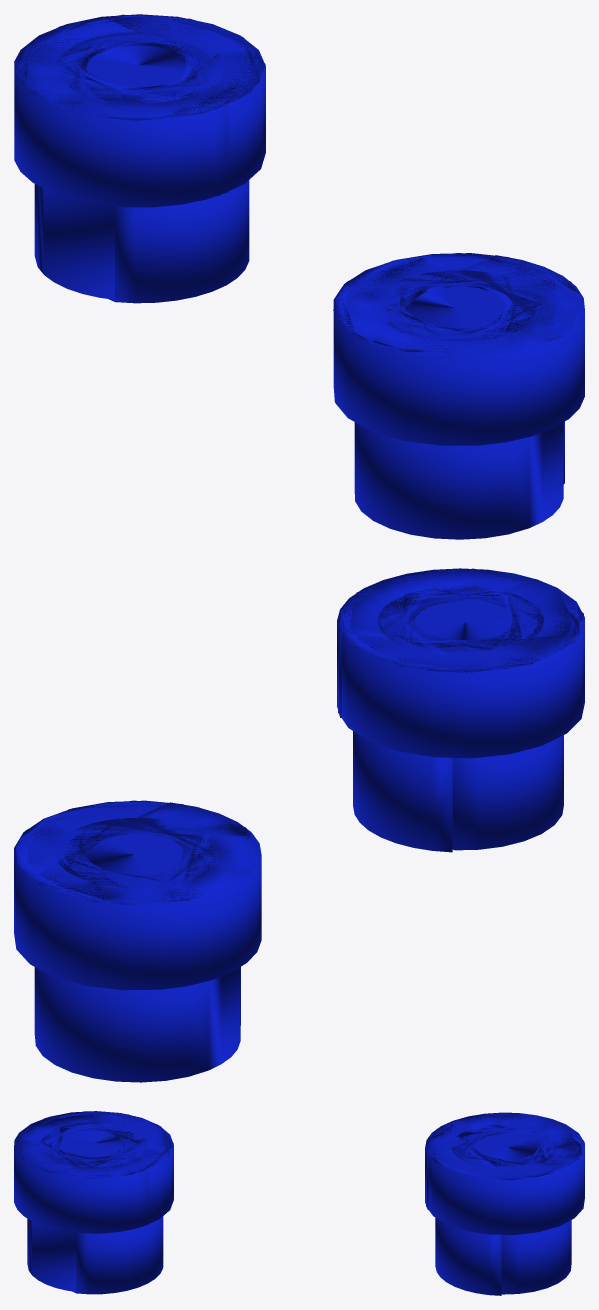
Rendered from tuyeau_element_000067.obj.
The picture shows the model from 3 angles, top to bottom: view 1: azimuth 30°, elevation 25°; view 2: azimuth 150°, elevation 25°; view 3: azimuth 270°, elevation 25°; orthographic projection. The views are drawn at different scales.
Parts seen in each view (by area): view 1: tuyeau1_Cube.014, tuyeau2_Cube.017; view 2: tuyeau2_Cube.017, tuyeau1_Cube.014; view 3: tuyeau2_Cube.017, tuyeau1_Cube.014.
Part boxes in pixels (<box>): tuyeau1_Cube.014: <box>14,14,265,303</box>; tuyeau2_Cube.017: <box>333,253,584,539</box>; tuyeau2_Cube.017: <box>337,568,584,852</box>; tuyeau1_Cube.014: <box>14,800,261,1082</box>; tuyeau2_Cube.017: <box>14,1111,173,1294</box>; tuyeau1_Cube.014: <box>425,1112,584,1295</box>.
Bounding box in the file's own units: 3602 × 2917 × 12575.
